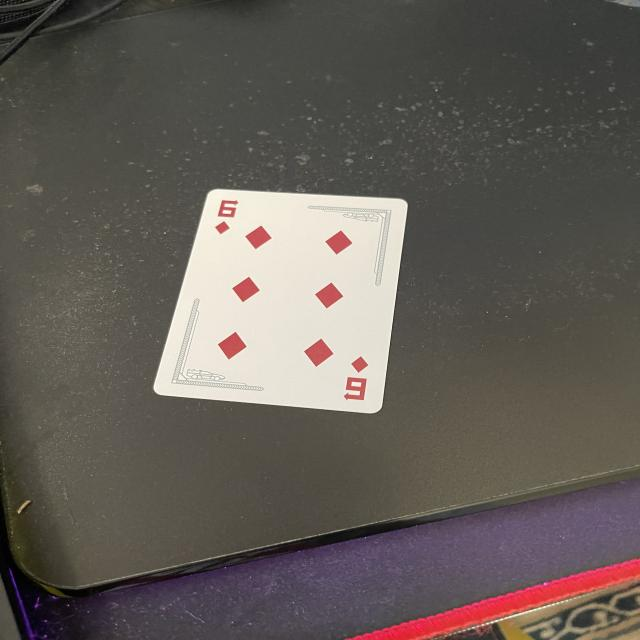6 of diamonds: (154, 189, 407, 413)
